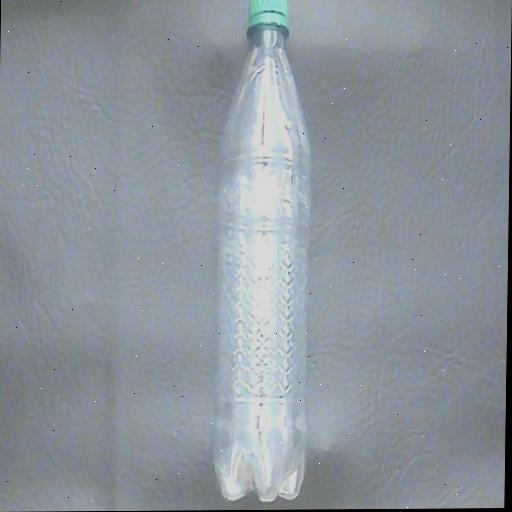bottle: (200, 0, 330, 510)
